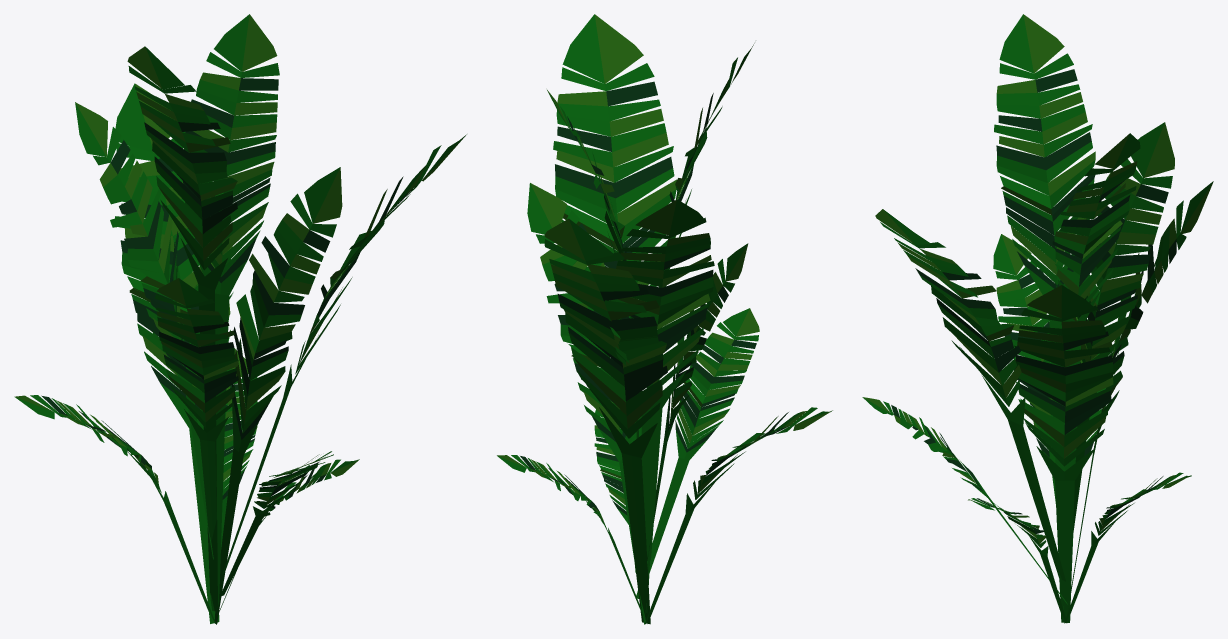
Rendered from lp_banan_3_Plane_001.obj.
3 renders of one model, left to right at view 1: azimuth 30°, elevation 25°; view 2: azimuth 150°, elevation 25°; view 3: azimuth 270°, elevation 25°, orthographic. The views are drawn at different scales.
Parts seen in each view (by area): view 1: lp_banan_3_Plane_001; view 2: lp_banan_3_Plane_001; view 3: lp_banan_3_Plane_001.
Part boxes in pixels (x1,y1,x2,y2): lp_banan_3_Plane_001: (14, 14, 466, 624); lp_banan_3_Plane_001: (497, 14, 832, 624); lp_banan_3_Plane_001: (862, 14, 1213, 623).
Size of the model in its own units: 3.57 by 5.85 by 3.29.
